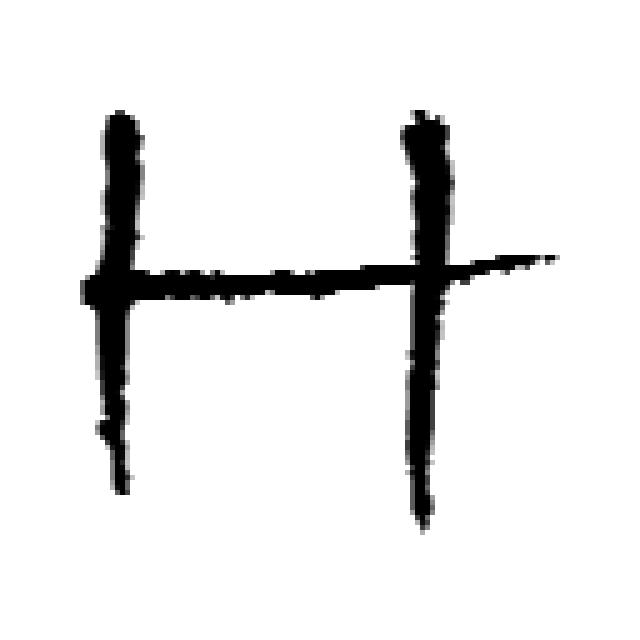H: (80, 110, 560, 535)
